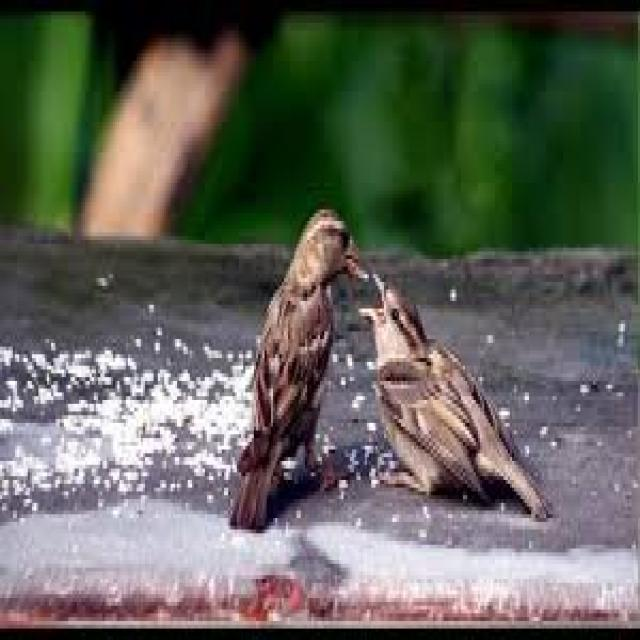Sparrow: (360, 272, 546, 524), (236, 201, 359, 534)
